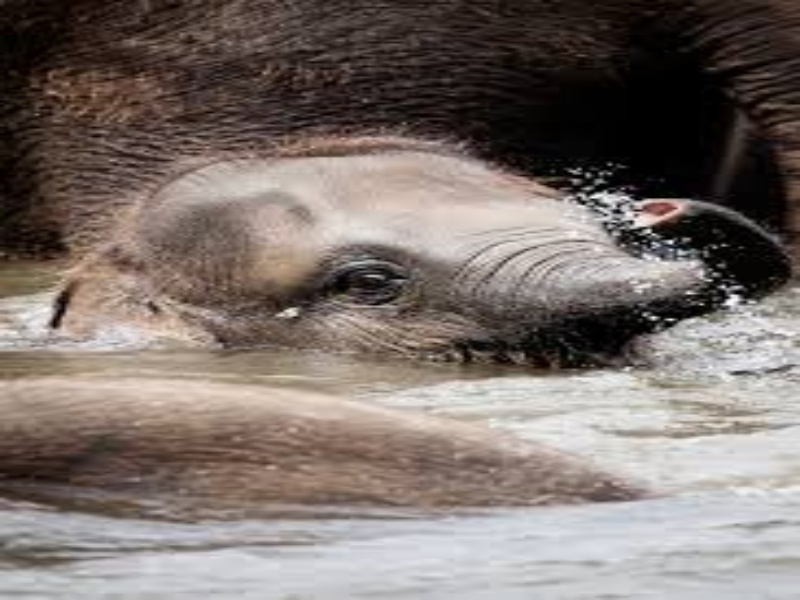elephant: (110, 139, 713, 373)
